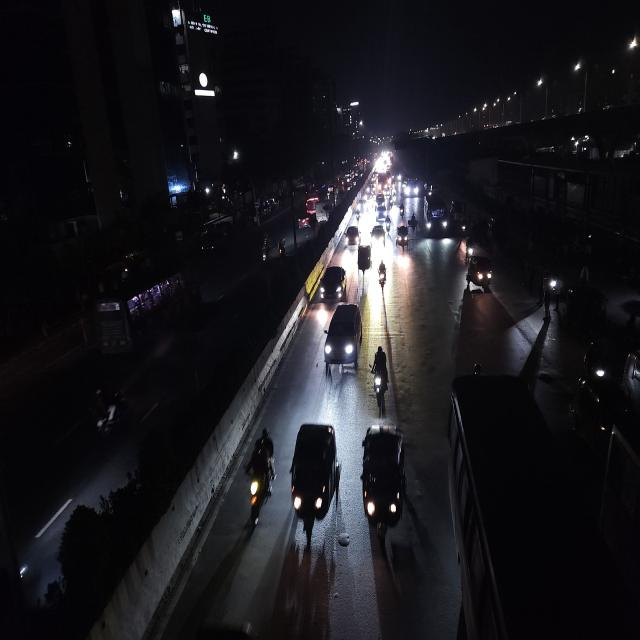bus: (448, 370, 612, 640), (92, 262, 198, 362), (423, 188, 449, 240), (401, 176, 420, 202)
car: (322, 299, 362, 378), (317, 261, 347, 305), (343, 223, 361, 253), (395, 221, 409, 251), (371, 222, 386, 248), (297, 212, 313, 232), (375, 206, 387, 221)
cng: (289, 417, 339, 546), (359, 420, 409, 549), (582, 336, 608, 383), (466, 252, 494, 294), (356, 242, 372, 276)
motorcycle: (243, 424, 276, 530), (369, 342, 391, 413), (376, 258, 388, 295), (260, 233, 272, 268), (462, 234, 476, 261), (277, 237, 287, 261), (352, 208, 362, 225), (399, 200, 406, 218)
rickshaw: (409, 216, 418, 234)
truck: (315, 203, 326, 223)
